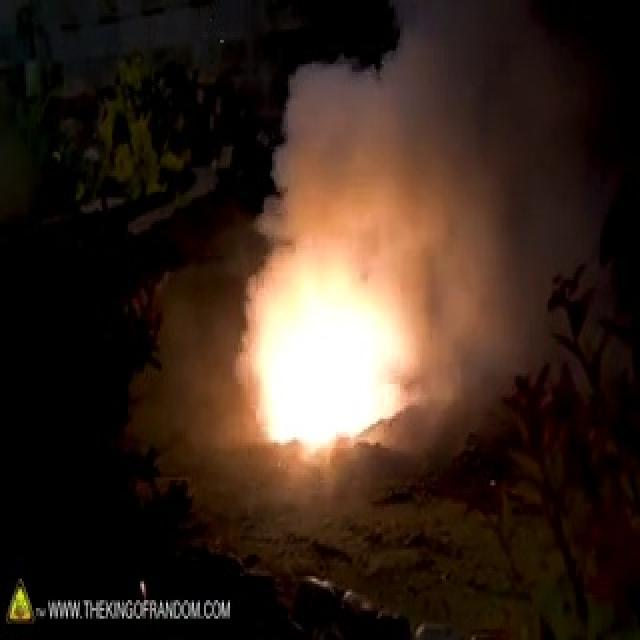fire: (262, 210, 416, 446)
